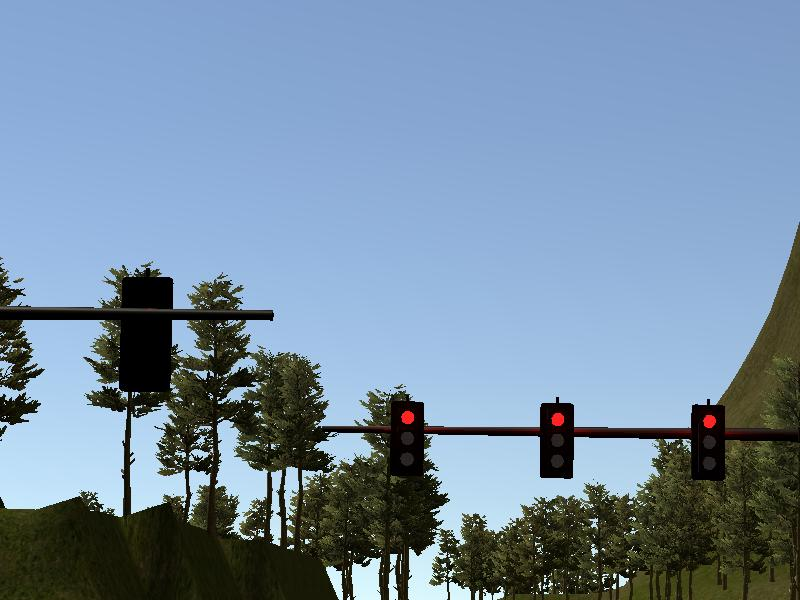Red: (391, 400, 424, 477), (691, 405, 725, 479), (540, 403, 573, 479)
